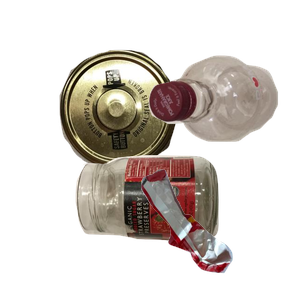glass: (73, 153, 284, 300)
metal: (57, 47, 227, 211)
plastic: (146, 53, 300, 187)
trash: (139, 167, 300, 300)
